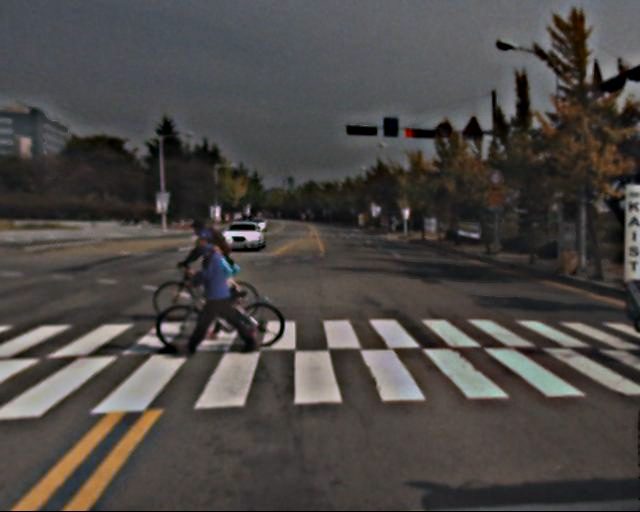person: (189, 226, 248, 354), (187, 218, 242, 334), (203, 232, 250, 337)
